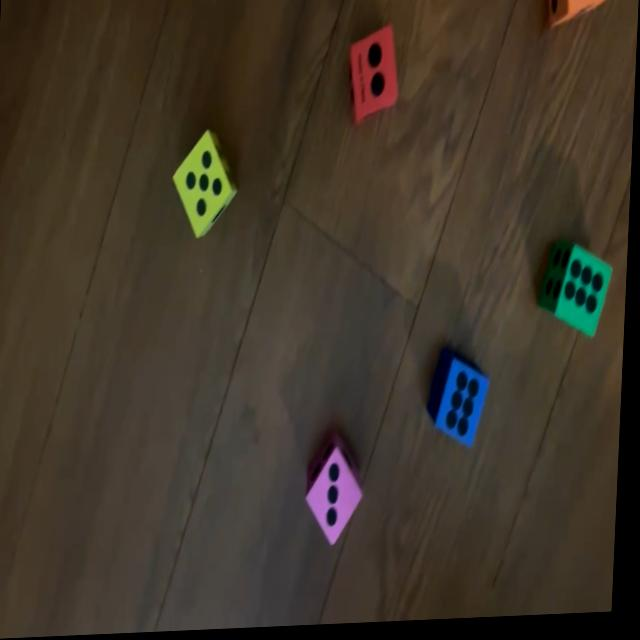blue_block: (427, 354, 494, 455)
red_block: (345, 24, 399, 131)
